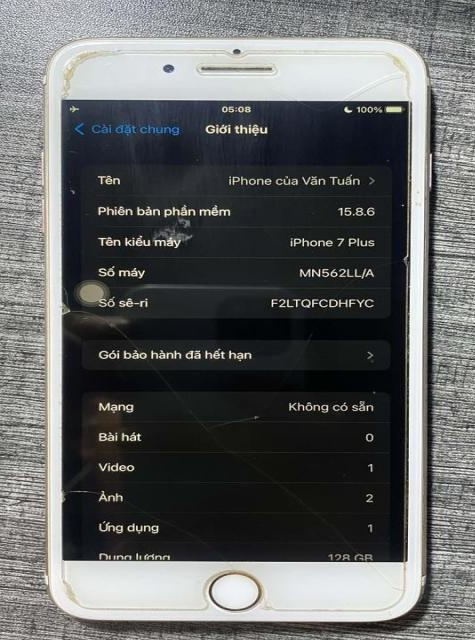physical_damage: (311, 514, 374, 561), (59, 49, 119, 97), (74, 307, 137, 349), (258, 77, 334, 111), (258, 471, 316, 513), (333, 76, 416, 100), (212, 432, 257, 472), (131, 350, 171, 385), (163, 385, 198, 423), (366, 561, 404, 593), (201, 413, 262, 430), (57, 576, 83, 608), (58, 287, 72, 317), (388, 53, 410, 71), (260, 599, 276, 612), (400, 253, 412, 267), (225, 561, 236, 571)
scratch: (150, 216, 193, 247), (413, 184, 424, 210), (66, 188, 78, 195)
